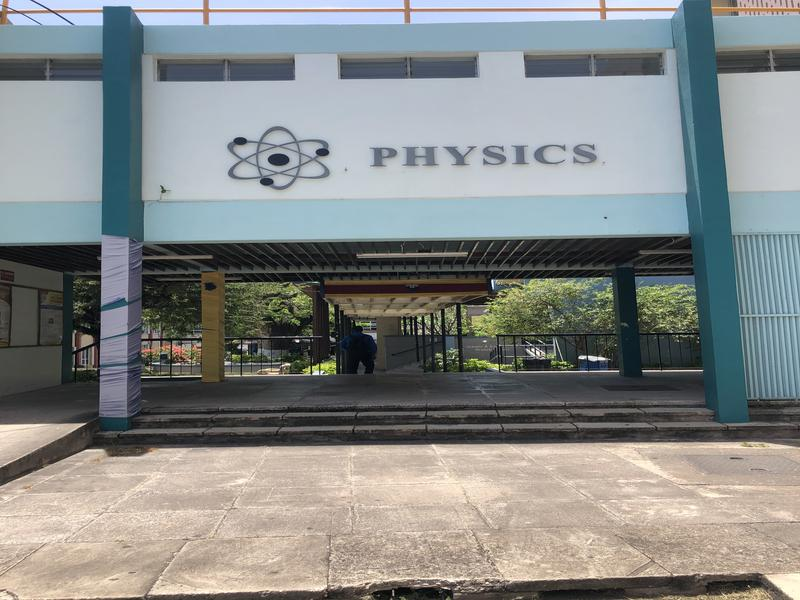18.0053657_-76.7491452_physicssign: (205, 113, 602, 195)
